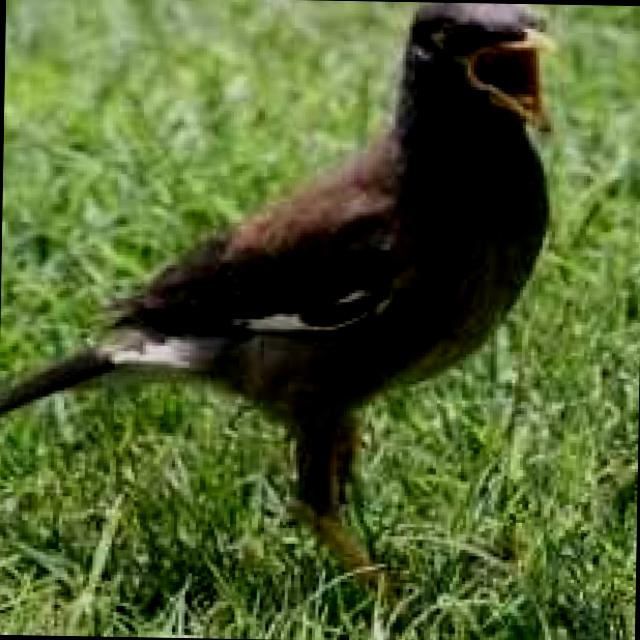bird: (0, 0, 586, 610)
